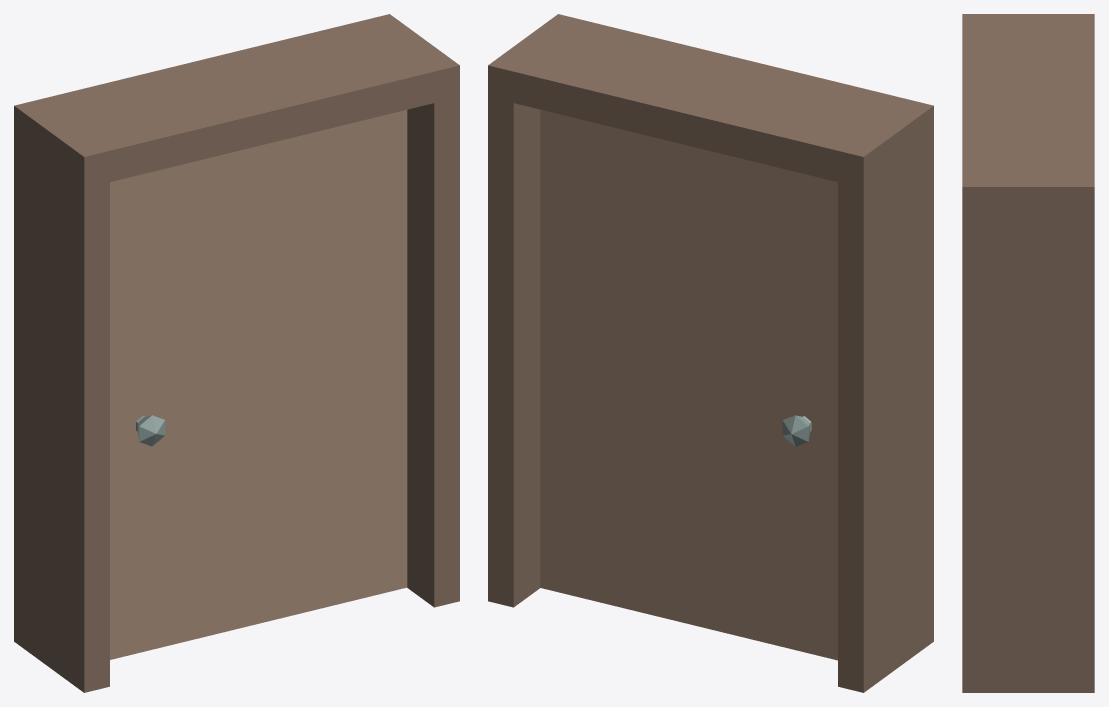
Rendered from door.fbx.
The picture shows the model from 3 angles, left to right: view 1: azimuth 30°, elevation 25°; view 2: azimuth 150°, elevation 25°; view 3: azimuth 270°, elevation 25°; orthographic projection. The views are drawn at different scales.
Visible parts, largest first — view 1: door, doorFrame, handle; view 2: door, doorFrame, handle; view 3: doorFrame.
Part boxes in pixels (x1,y1,x2,y2): door: [110, 110, 407, 659]; doorFrame: [14, 14, 459, 692]; handle: [136, 415, 165, 446]; door: [540, 109, 837, 660]; doorFrame: [488, 14, 933, 692]; handle: [782, 415, 811, 446]; doorFrame: [962, 14, 1094, 692].
Bounding box in the file's own units: 2.25 × 3.07 × 0.7279.
